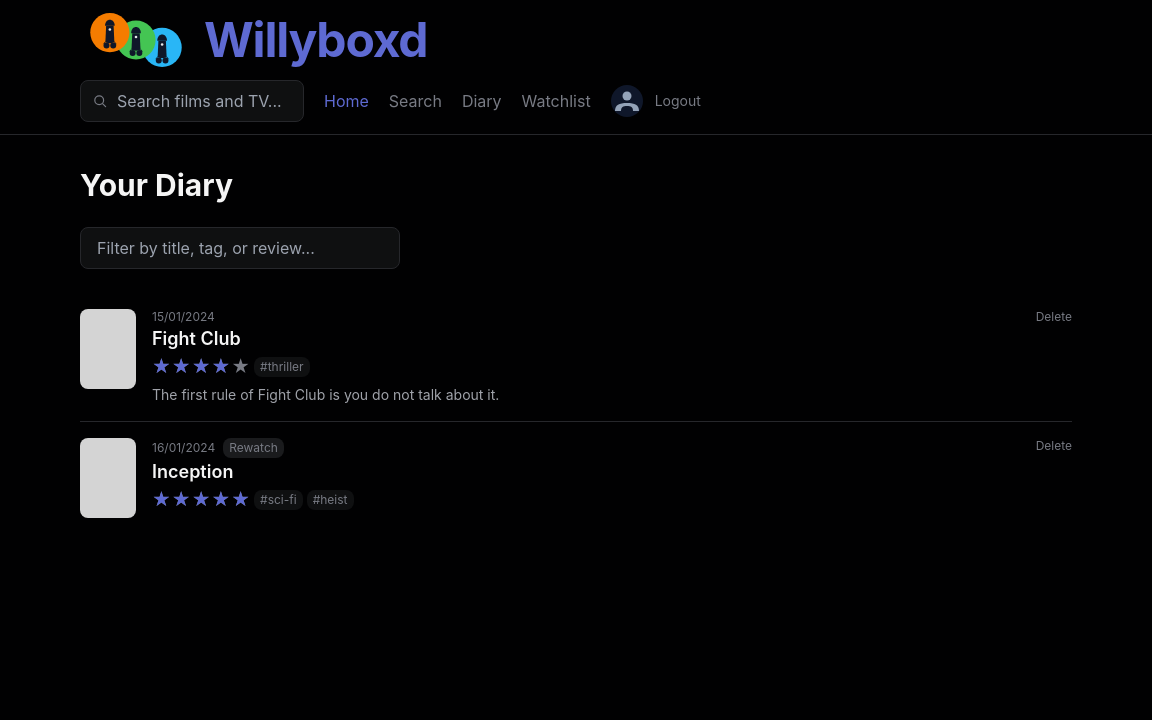
Scenario: Diary › filters diary entries by tag
Check: the link "Fight Club" is shown, box [152,328,241,349]
Type "thriller" into the field named "Filter diary entries". click: (240,248)
box: [80,227,400,269]
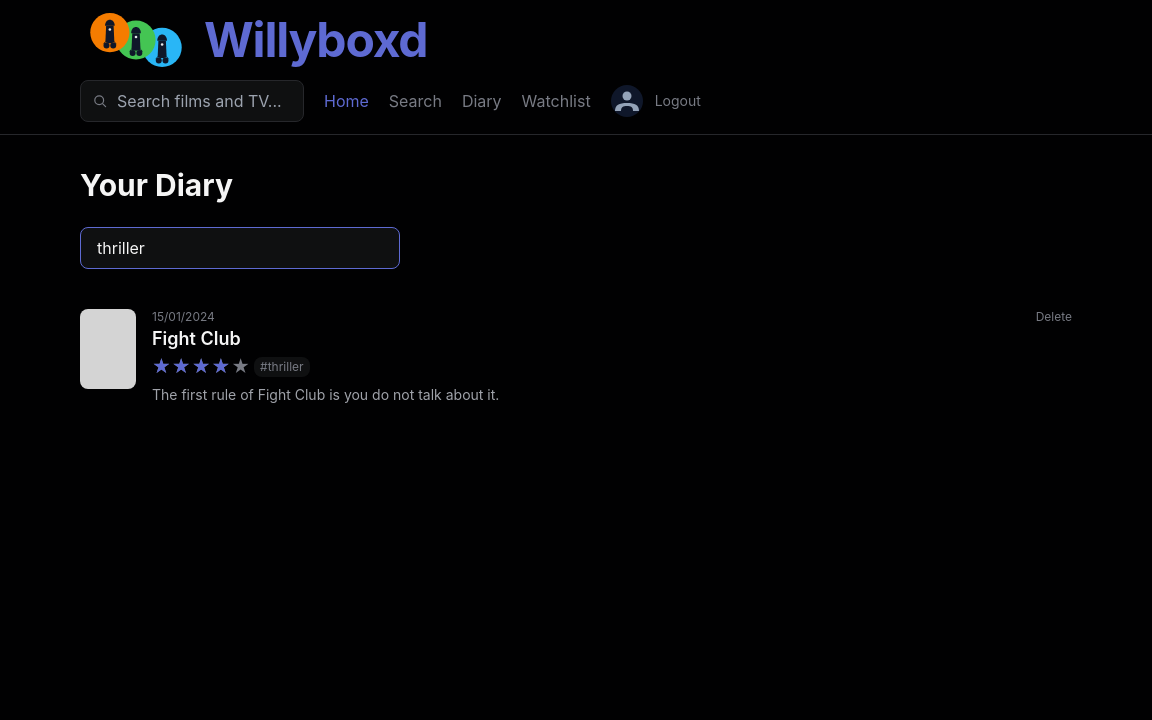
Check: the link "Fight Club" is shown, box [152,328,241,349]
Check: the link "Inception" is gone
